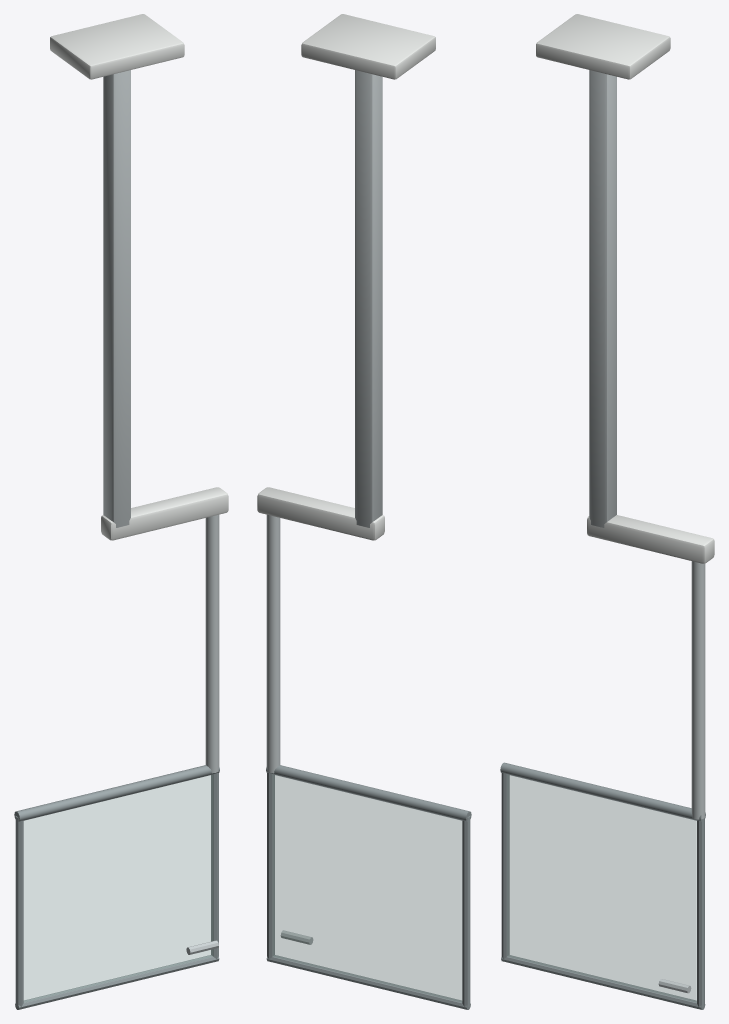
File: sc-lead-shield.glb
3 views of the same model, side by side, from view 1: azimuth 30°, elevation 25°; view 2: azimuth 150°, elevation 25°; view 3: azimuth 330°, elevation 25° (orthographic).
Visible parts, largest first — view 1: sc-lead-shield; view 2: sc-lead-shield; view 3: sc-lead-shield.
Boxes of the visible parts, bbox=[...] form: sc-lead-shield: bbox=[14, 14, 228, 1009]; sc-lead-shield: bbox=[257, 14, 471, 1009]; sc-lead-shield: bbox=[500, 14, 714, 1009].
Size of the model in its own units: 0.875 by 3.79 by 0.3.
